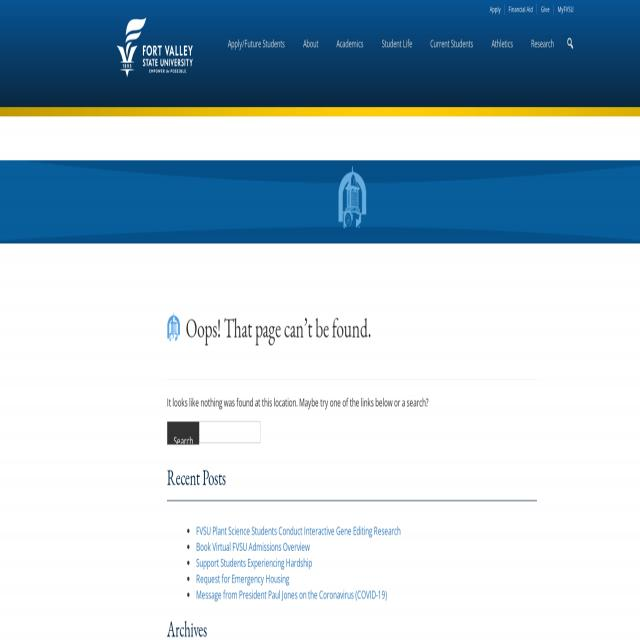button: (117, 18, 193, 77), (422, 25, 484, 62), (523, 25, 565, 62), (483, 25, 523, 62), (167, 421, 199, 445), (564, 29, 580, 62)
field: (200, 422, 260, 443)
